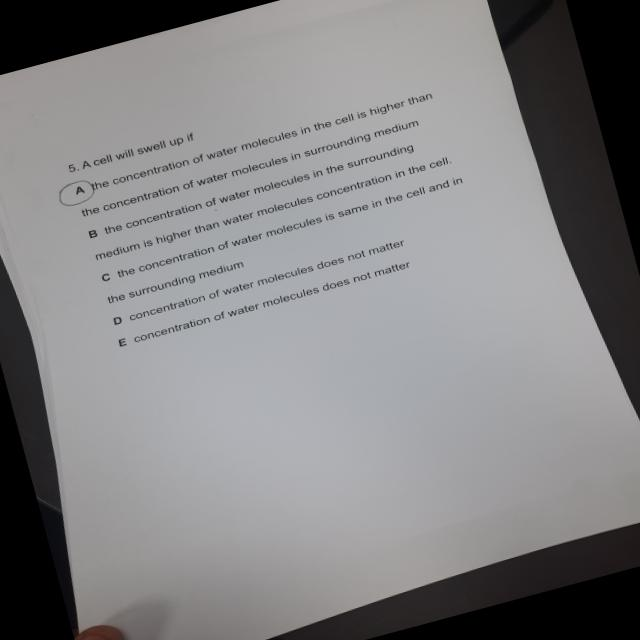A: (54, 175, 101, 212)
